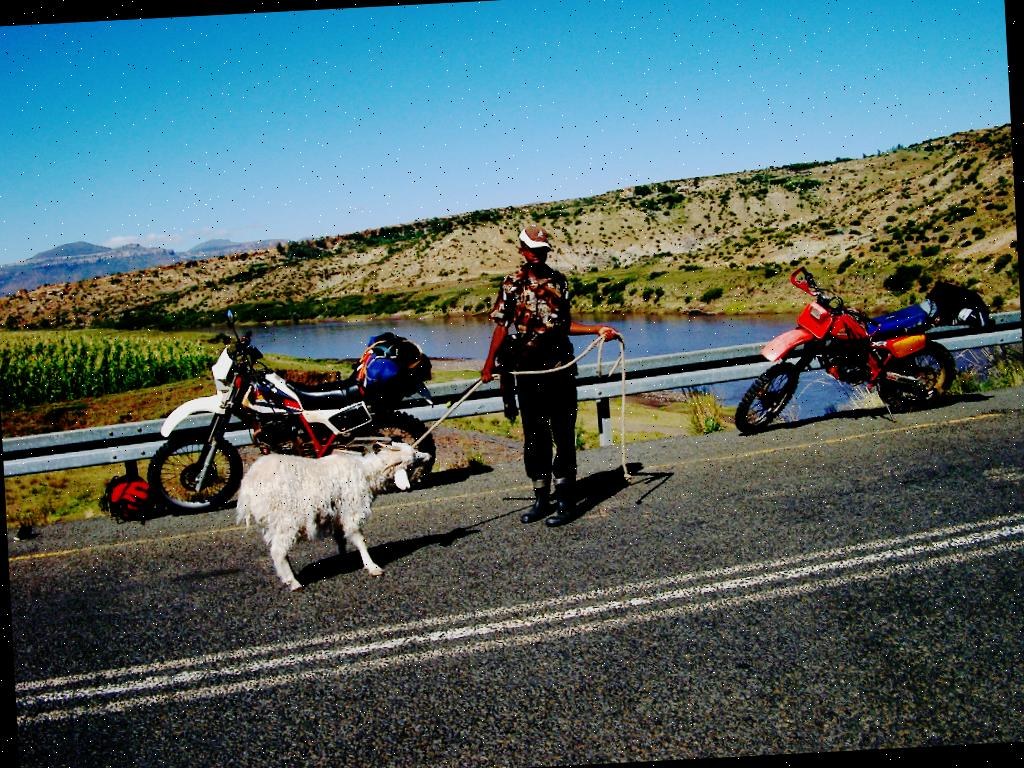Sheep: (232, 436, 443, 594)
